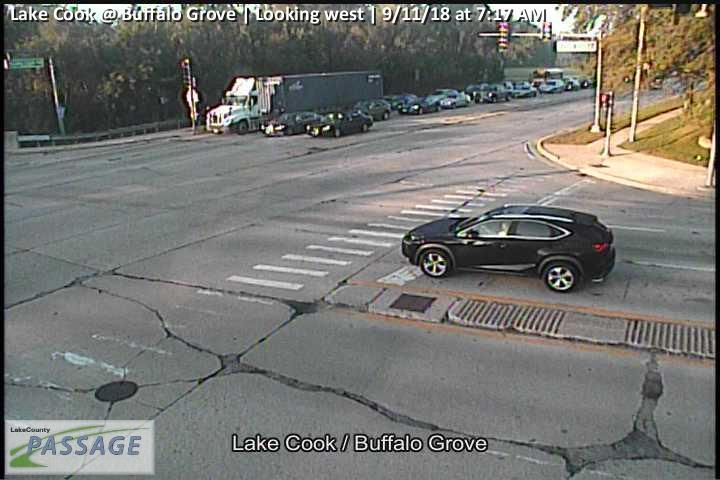SUV: (401, 203, 615, 293), (348, 98, 390, 121), (422, 87, 459, 109), (440, 92, 471, 109)
Sedan: (304, 113, 374, 138), (260, 110, 323, 137), (397, 96, 442, 115), (472, 84, 514, 102)
Truck: (203, 71, 383, 135)
